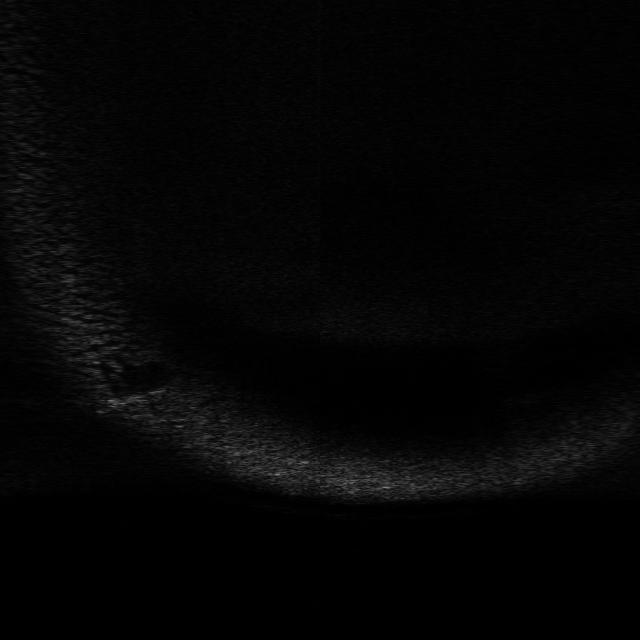plane: (93, 384, 168, 417)
